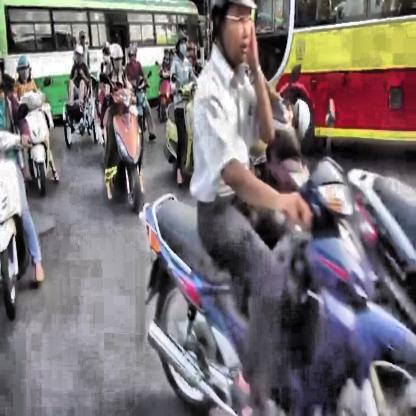wear: (109, 42, 125, 74), (174, 28, 189, 58), (17, 54, 32, 83), (75, 45, 85, 66)
